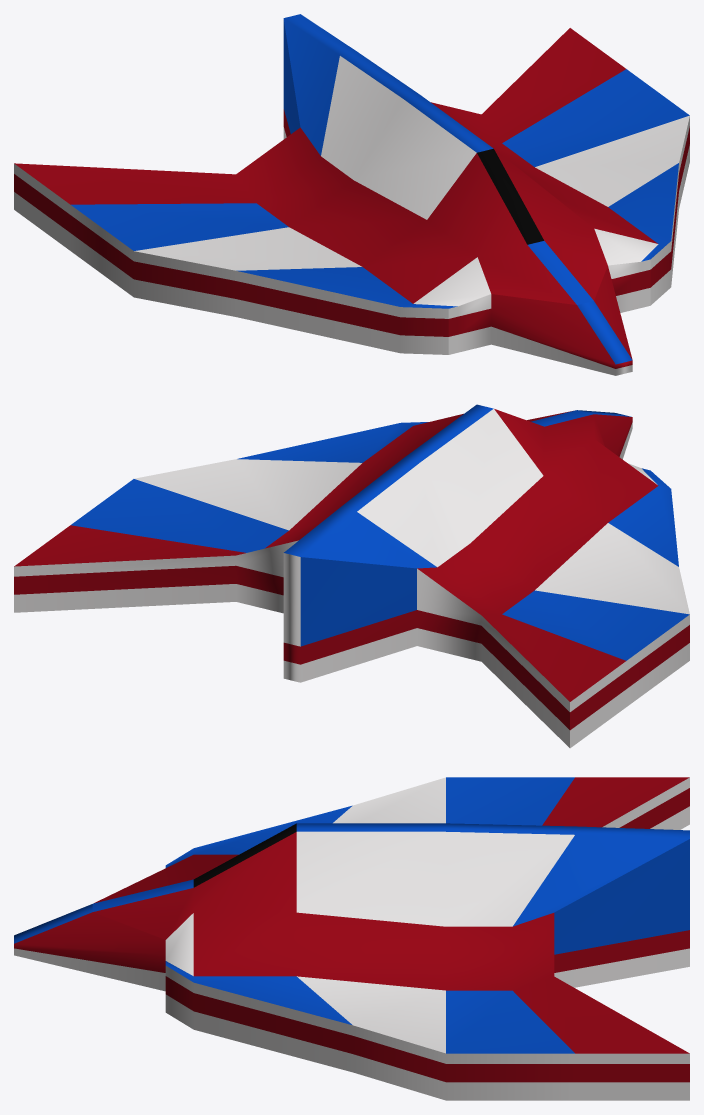
The model's file is Enemy_SpaceShip.fbx.
The picture shows the model from 3 angles, top to bottom: view 1: azimuth 30°, elevation 25°; view 2: azimuth 150°, elevation 25°; view 3: azimuth 270°, elevation 25°; orthographic projection.
Parts seen in each view (by area): view 1: pCube1; view 2: pCube1; view 3: pCube1.
Part boxes in pixels (<box>): pCube1: <box>14,14,689,375</box>; pCube1: <box>14,404,689,748</box>; pCube1: <box>14,777,689,1100</box>.
Bounding box in the file's own units: 468 × 484 × 107.
